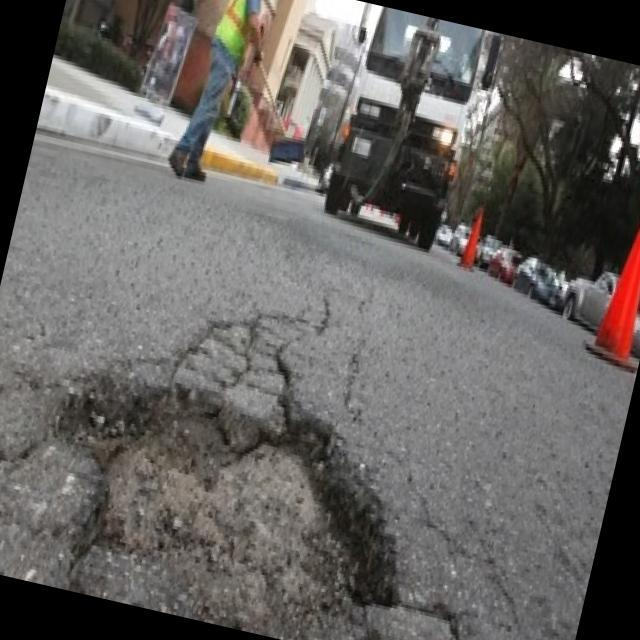Pothole: (13, 313, 454, 640)
